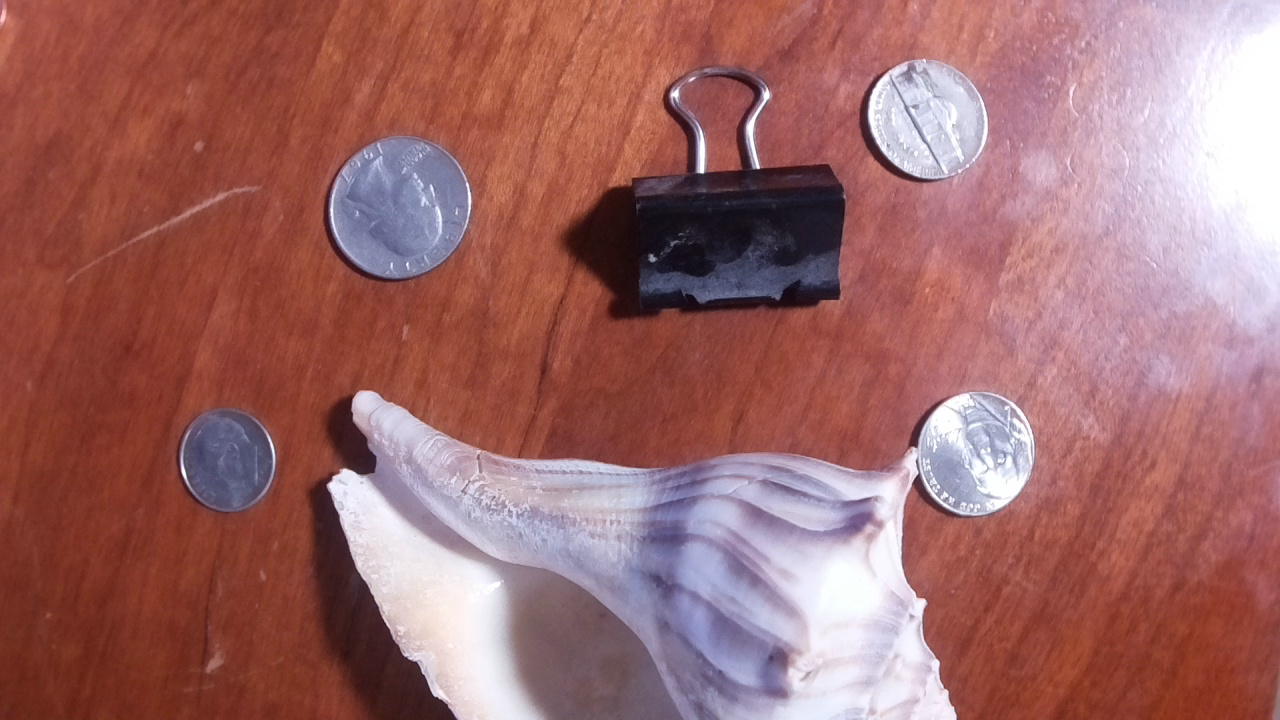dime: (177, 406, 277, 514)
nickel: (859, 55, 991, 185), (910, 387, 1038, 521)
quarter: (322, 132, 474, 284)
